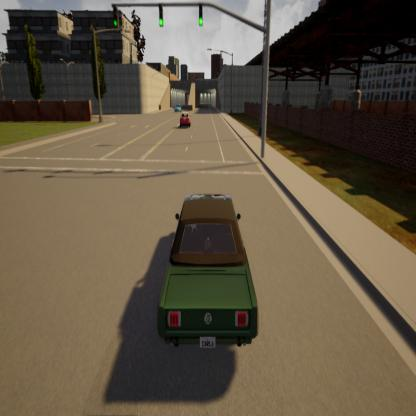Cars: (146, 178, 270, 374), (178, 110, 192, 129), (173, 103, 183, 114)
